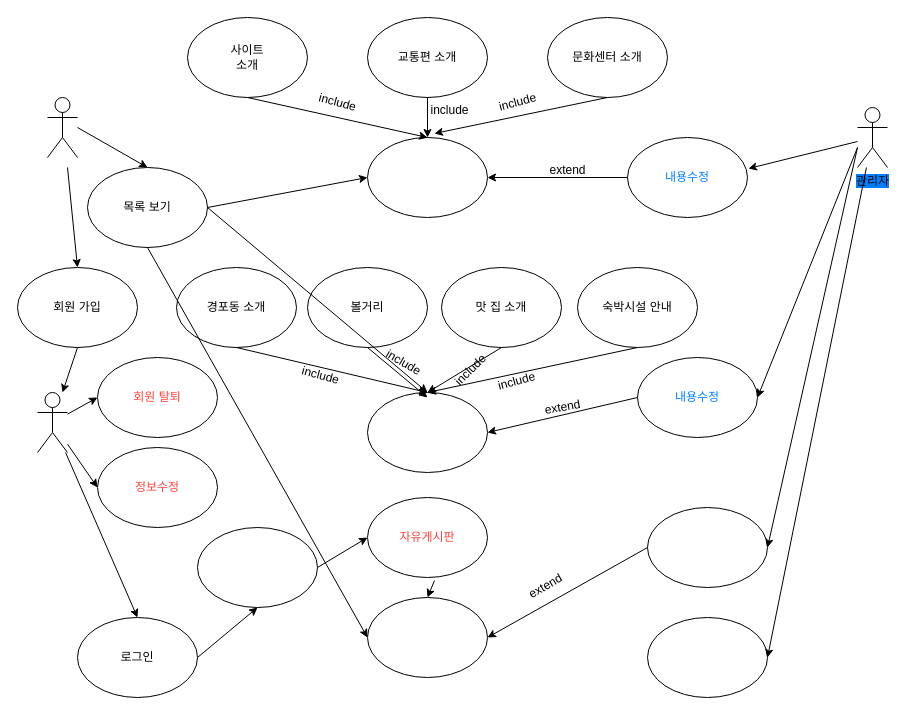
Image size: 906x715. Some labels were removed from this diagram. Here are the shapes that lost their labels. From the top down, the centre of each, then its label:
At point (62, 127): "비회원".
At point (427, 177): "공지 사항".
At point (52, 422): "회원".
At point (427, 432): "지역 소개".
At point (257, 567): "상세 보기".
At point (707, 547): "게시판 관리".
At point (427, 637): "회원 참여".
At point (707, 657): "회원 관리".
